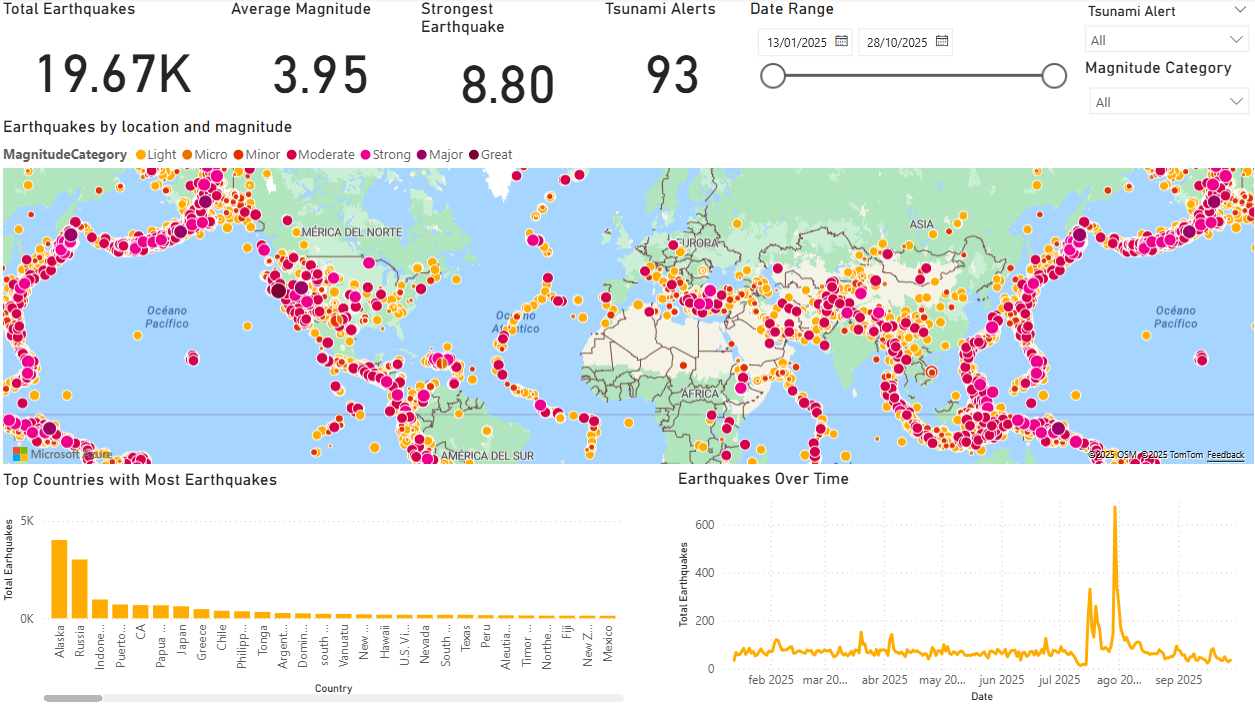

The page's visual inventory and layout, read from the dashboard file:
{"tool":"powerbi","page":{"name":"Page 1","canvas":[1280,720],"ordinal":0},"visuals":[{"type":"card","title":"Total Earthquakes","fields":{"Values":["Count(fact_earthquake_events.EventID)"]},"box":[0,0,231.4,119.8],"z":0},{"type":"card","title":"Average Magnitude","fields":{"Values":["Avg(fact_earthquake_events.Magnitude)"]},"box":[231.4,0,192.9,119.8],"z":1000},{"type":"card","title":"Strongest Earthquake","fields":{"Values":["Max(fact_earthquake_events.Magnitude)"]},"box":[424.3,0,186.8,119.8],"z":2000},{"type":"card","title":"Tsunami Alerts","fields":{"Values":["CountNonNull(fact_earthquake_events.TsunamiWarning)"]},"box":[611.1,0,147.2,119.8],"z":3000},{"type":"azureMap","title":"Earthquakes by location and magnitude","fields":{"Y":["dim_location.latitude"],"X":["dim_location.longitude"],"Size":["Sum(fact_earthquake_events.Magnitude)"],"Series":["dim_magnitude.MagnitudeCategory"]},"box":[0,119.6,1280,358.7],"z":4000},{"type":"clusteredColumnChart","title":" Top Countries with Most Earthquakes","fields":{"Category":["dim_location.extracted_country"],"Y":["CountNonNull(fact_earthquake_events.EventID)"]},"box":[0,478.1,640.5,241.6],"z":5000},{"type":"lineChart","title":"Earthquakes Over Time","fields":{"Y":["CountNonNull(fact_earthquake_events.EventID)"],"Category":["dim_date.FullDate.Variation.Date Hierarchy.Year","dim_date.FullDate.Variation.Date Hierarchy.Quarter","dim_date.FullDate.Variation.Date Hierarchy.Month","dim_date.FullDate.Variation.Date Hierarchy.Day"]},"box":[685.2,477.1,594.8,242.6],"z":6000},{"type":"slicer","title":"Date Range","fields":{"Values":["dim_date.FullDate"]},"box":[758.3,0,335,119.8],"z":7000},{"type":"slicer","title":"Magnitude Category","fields":{"Values":["dim_magnitude.MagnitudeCategory"]},"box":[1098.3,59.9,181.7,60.9],"z":8000},{"type":"slicer","fields":{"Values":["fact_earthquake_events.TsunamiWarning"]},"box":[1093.2,0,186.8,59.9],"z":9000}]}

Visuals, with their boxes in screenshot pixels (x1, y1, x2, y2), scaled from the page's 1280x720 canvas onto the 1255x705 screenshot:
"Total Earthquakes" card: 0/0/227/117
"Average Magnitude" card: 227/0/416/117
"Strongest Earthquake" card: 416/0/599/117
"Tsunami Alerts" card: 599/0/743/117
"Earthquakes by location and magnitude" azureMap: 0/117/1254/468
" Top Countries with Most Earthquakes" clusteredColumnChart: 0/468/628/704
"Earthquakes Over Time" lineChart: 672/467/1254/704
"Date Range" slicer: 743/0/1072/117
"Magnitude Category" slicer: 1077/59/1254/118
slicer - fact_earthquake_events.TsunamiWarning: 1072/0/1254/59
